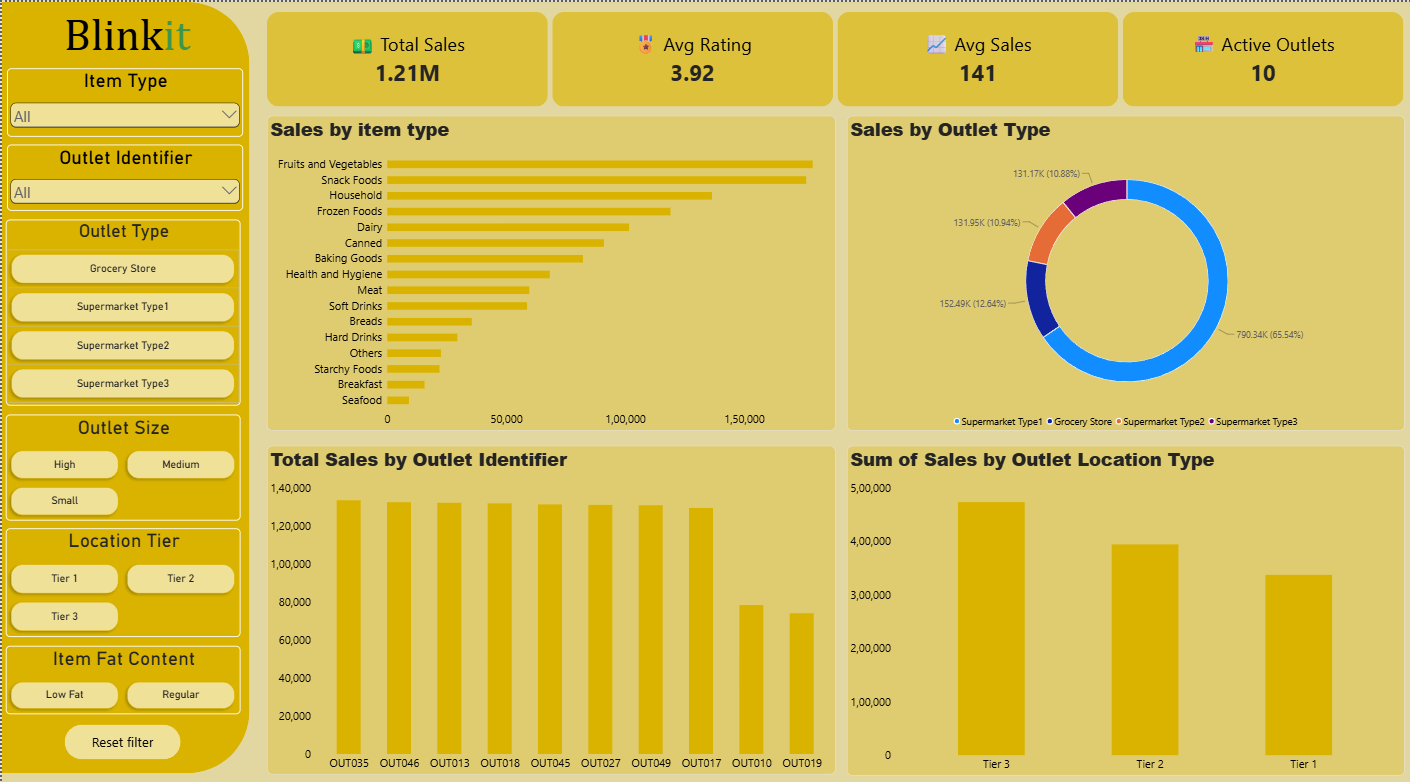

Layout of this report page (visuals, bound fields, positions):
{"tool":"powerbi","page":{"name":"Sales Overview","canvas":[2560,1440],"ordinal":0},"visuals":[{"type":"shape","box":[0,0,447.7,1395.2],"z":0},{"type":"textbox","box":[0,0,431.9,126.6],"z":1000},{"type":"advancedSlicerVisual","fields":{"Values":["BlinkIT Grocery Data.Outlet Type"]},"box":[6.8,393.5,425.1,336.9],"z":2000},{"type":"slicer","fields":{"Values":["BlinkIT Grocery Data.Item Type"]},"box":[9,119.8,427.4,124.4],"z":3000},{"type":"slicer","fields":{"Values":["BlinkIT Grocery Data.Outlet Identifier"]},"box":[9,257.8,427.4,119.8],"z":4000},{"type":"advancedSlicerVisual","fields":{"Values":["BlinkIT Grocery Data.Outlet Size"]},"box":[6.8,746.2,425.1,192.2],"z":5000},{"type":"advancedSlicerVisual","title":"Location Tier","fields":{"Values":["BlinkIT Grocery Data.Outlet Location Type"]},"box":[6.8,952,425.1,196.7],"z":6000},{"type":"advancedSlicerVisual","fields":{"Values":["BlinkIT Grocery Data.Item Fat Content"]},"box":[6.8,1164.6,425.1,124.4],"z":7000},{"type":"actionButton","box":[113.1,1307,210.3,63.3],"z":8000},{"type":"cardVisual","fields":{"Data":["Sum(BlinkIT Grocery Data.Sales)","Avg(BlinkIT Grocery Data.Rating)","BlinkIT Grocery Data.Avg Sales Per Item","BlinkIT Grocery Data.Active Outlets"]},"box":[479.4,18.1,2057.8,171.9],"z":9000},{"type":"barChart","title":"Sales by item type","fields":{"Category":["BlinkIT Grocery Data.Item Type"],"Y":["Sum(BlinkIT Grocery Data.Sales)"]},"box":[479.4,205.8,1028.9,569.9],"z":10000},{"type":"donutChart","title":"Sales by Outlet Type","fields":{"Category":["BlinkIT Grocery Data.Outlet Type"],"Y":["Sum(BlinkIT Grocery Data.Sales)"]},"box":[1528.7,205.8,1008.5,569.9],"z":11000},{"type":"columnChart","title":"Total Sales by Outlet Identifier","fields":{"Category":["BlinkIT Grocery Data.Outlet Identifier"],"Y":["Sum(BlinkIT Grocery Data.Sales)"]},"box":[479.4,802.8,1028.9,594.7],"z":12000},{"type":"columnChart","fields":{"Category":["BlinkIT Grocery Data.Outlet Location Type"],"Y":["Sum(BlinkIT Grocery Data.Sales)"]},"box":[1528.7,802.8,1008.5,597],"z":13000},{"type":"tableEx","title":"Item type breakdown","fields":{"Values":["BlinkIT Grocery Data.Item Type","Sum(BlinkIT Grocery Data.Sales)","Avg(BlinkIT Grocery Data.Sales)","Avg(BlinkIT Grocery Data.Rating)"]},"box":[6,1994,1900,532],"z":15000},{"type":"tableEx","title":"Outlet breakdown","fields":{"Values":["BlinkIT Grocery Data.Outlet Identifier","BlinkIT Grocery Data.Outlet Type","BlinkIT Grocery Data.Outlet Location Type","BlinkIT Grocery Data.Outlet Establishment Year","BlinkIT Grocery Data.Outlet Size","Sum(BlinkIT Grocery Data.Sales)","Avg(BlinkIT Grocery Data.Sales)","Avg(BlinkIT Grocery Data.Rating)"]},"box":[6,2544,1900,538],"z":16000}]}

Visuals, with their boxes in screenshot pixels (x1, y1, x2, y2), scaled from the page's 2560x1440 canvas onto the 1410x782 screenshot:
shape: [0, 0, 247, 758]
textbox: [0, 0, 238, 69]
advancedSlicerVisual - BlinkIT Grocery Data.Outlet Type: [4, 214, 238, 397]
slicer - BlinkIT Grocery Data.Item Type: [5, 65, 240, 133]
slicer - BlinkIT Grocery Data.Outlet Identifier: [5, 140, 240, 205]
advancedSlicerVisual - BlinkIT Grocery Data.Outlet Size: [4, 405, 238, 510]
"Location Tier" advancedSlicerVisual: [4, 517, 238, 624]
advancedSlicerVisual - BlinkIT Grocery Data.Item Fat Content: [4, 632, 238, 700]
actionButton: [62, 710, 178, 744]
cardVisual - Sum(BlinkIT Grocery Data.Sales) x Avg(BlinkIT Grocery Data.Rating): [264, 10, 1397, 103]
"Sales by item type" barChart: [264, 112, 831, 421]
"Sales by Outlet Type" donutChart: [842, 112, 1397, 421]
"Total Sales by Outlet Identifier" columnChart: [264, 436, 831, 759]
columnChart - BlinkIT Grocery Data.Outlet Location Type x Sum(BlinkIT Grocery Data.Sales): [842, 436, 1397, 760]
